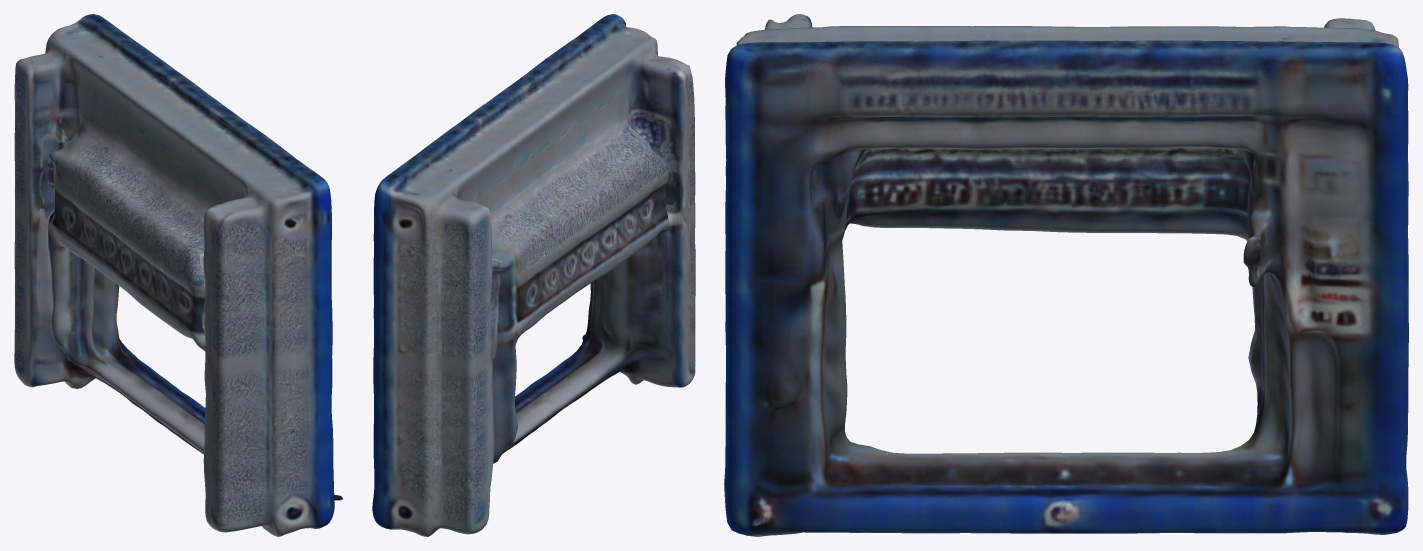
Rendered from 10f6e7fb0e77_frame_for_sliding_d.fbx.
3 renders of one model, left to right at view 1: azimuth 30°, elevation 25°; view 2: azimuth 150°, elevation 25°; view 3: azimuth 270°, elevation 25°, orthographic. The views are drawn at different scales.
Visible parts, largest first — view 1: mesh; view 2: mesh; view 3: mesh.
Part boxes in pixels (x1,y1,x2,y2): mesh: (14, 14, 342, 536); mesh: (372, 14, 695, 536); mesh: (724, 14, 1408, 536).
Size of the model in its own units: 28.57 by 79.46 by 99.82.
